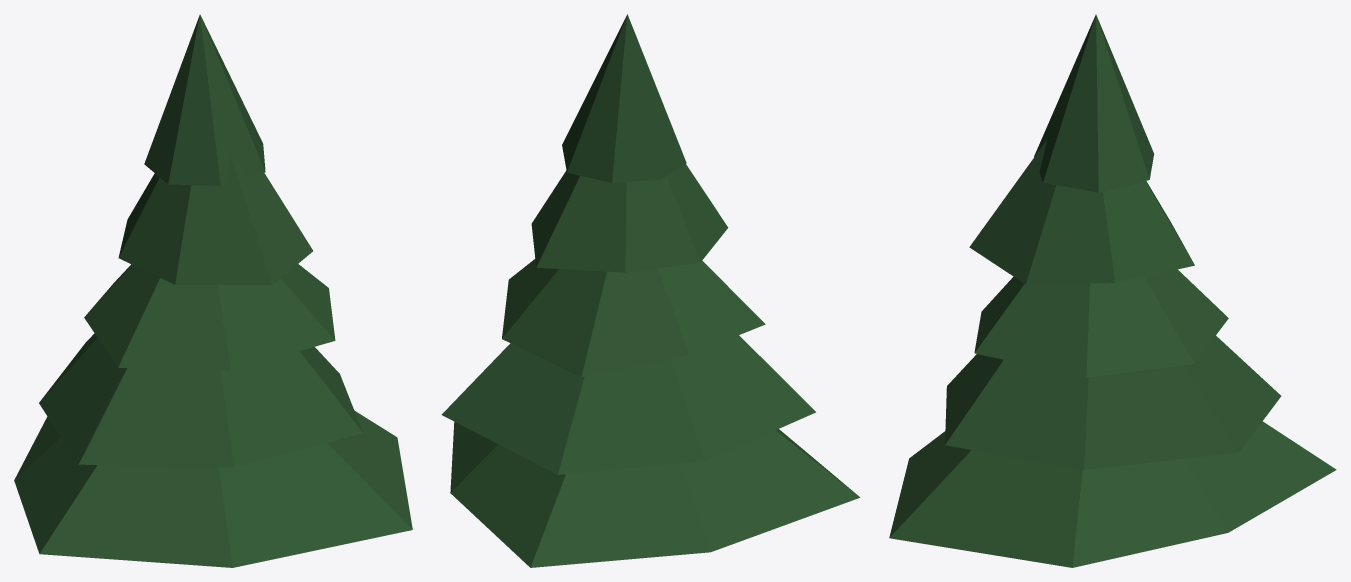
File: forest_conifer_broad_v31.glb
3 views of the same model, side by side, from view 1: azimuth 30°, elevation 25°; view 2: azimuth 150°, elevation 25°; view 3: azimuth 270°, elevation 25° (orthographic).
Visible parts, largest first — view 1: forest_conifer_broad; view 2: forest_conifer_broad; view 3: forest_conifer_broad.
Part boxes in pixels (x1,y1,x2,y2): forest_conifer_broad: (14, 14, 412, 567); forest_conifer_broad: (441, 14, 860, 567); forest_conifer_broad: (889, 14, 1336, 567).
Bounding box in the file's own units: 2.08 × 2.74 × 2.09.
